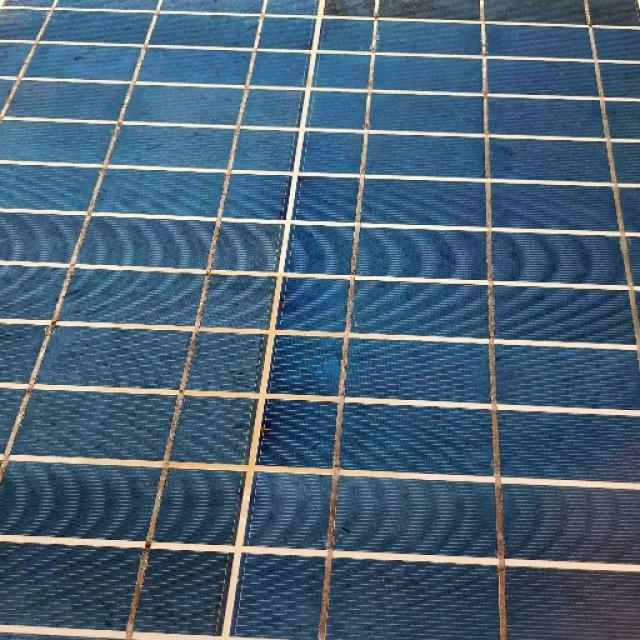Clean: (0, 54, 640, 640)
